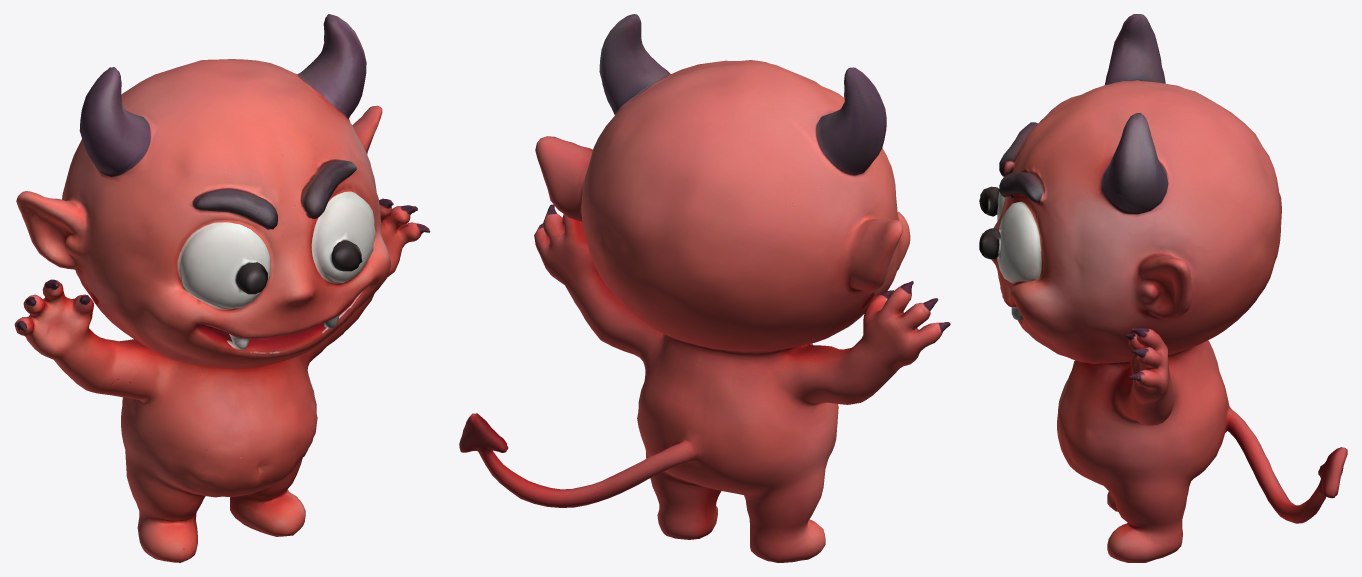
File: seytan1.glb
3 views of the same model, side by side, from view 1: azimuth 30°, elevation 25°; view 2: azimuth 150°, elevation 25°; view 3: azimuth 270°, elevation 25° (orthographic). The views are drawn at different scales.
Visible parts, largest first — view 1: tripo_node_96003c30-ddf2-43ce-953c-ca3cd0b9cf52; view 2: tripo_node_96003c30-ddf2-43ce-953c-ca3cd0b9cf52; view 3: tripo_node_96003c30-ddf2-43ce-953c-ca3cd0b9cf52.
Boxes of the visible parts, x1=… form: tripo_node_96003c30-ddf2-43ce-953c-ca3cd0b9cf52: x1=14, y1=14, x2=430, y2=562; tripo_node_96003c30-ddf2-43ce-953c-ca3cd0b9cf52: x1=459, y1=14, x2=950, y2=562; tripo_node_96003c30-ddf2-43ce-953c-ca3cd0b9cf52: x1=979, y1=14, x2=1347, y2=562.
Bounding box in the file's own units: 0.8345 × 0.9758 × 0.697.
Materials: 1 (1 with a texture image).
